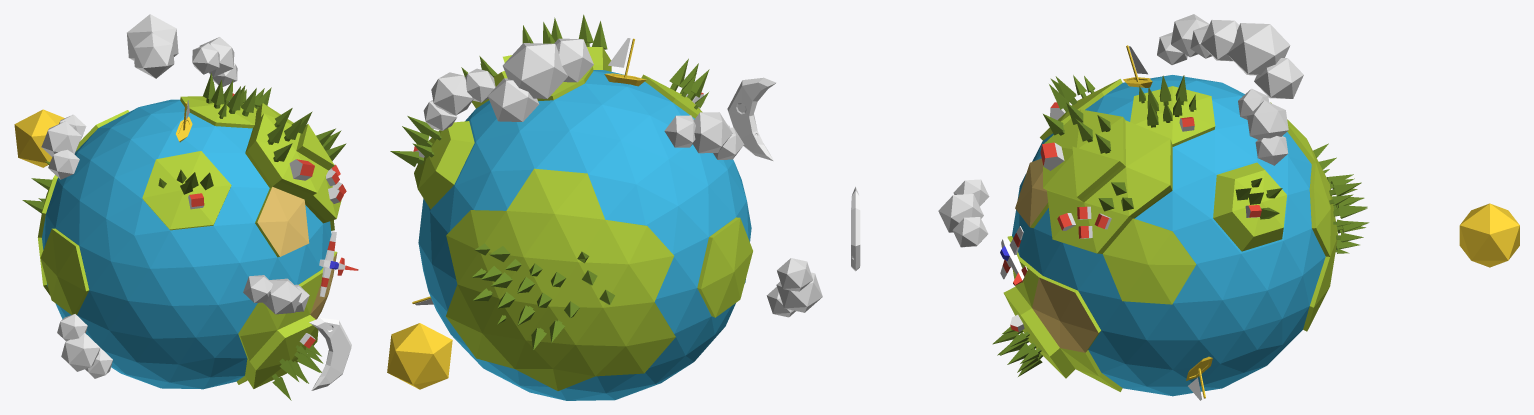
Rendered from earth2.glb.
3 views of the same model, side by side, from view 1: azimuth 30°, elevation 25°; view 2: azimuth 150°, elevation 25°; view 3: azimuth 270°, elevation 25° (orthographic). The views are drawn at different scales.
Visible parts, largest first — view 1: Icosphere.001, Icosphere, Icosphere.006, Icosphere.005, Icosphere.002, Icosphere.003, Icosphere.007, Moon.01, Icosphere.004, Plane.066, Plane.055, Plane.064; view 2: Icosphere, Icosphere.001, Icosphere.006, Icosphere.007, Icosphere.004, Icosphere.002, Icosphere.005, Moon.01, Plane.064; view 3: Icosphere.001, Icosphere, Icosphere.006, Icosphere.007, Icosphere.004, Icosphere.003, Icosphere.002, Plane.066, Moon.01.
Part boxes in pixels (<box>): Icosphere.001: <box>42,99,331,389</box>; Icosphere: <box>37,96,341,388</box>; Icosphere.006: <box>127,14,178,78</box>; Icosphere.005: <box>57,314,112,378</box>; Icosphere.002: <box>41,114,86,179</box>; Icosphere.003: <box>243,275,309,314</box>; Icosphere.007: <box>14,109,64,167</box>; Moon.01: <box>309,318,351,390</box>; Icosphere.004: <box>192,37,237,86</box>; Plane.066: <box>319,231,358,296</box>; Plane.055: <box>289,159,314,180</box>; Plane.064: <box>176,100,192,142</box>; Icosphere: <box>414,47,752,390</box>; Icosphere.001: <box>418,70,751,400</box>; Icosphere.006: <box>487,38,593,121</box>; Icosphere.007: <box>387,323,452,389</box>; Icosphere.004: <box>423,68,495,130</box>; Icosphere.002: <box>664,112,744,159</box>; Icosphere.005: <box>766,258,822,317</box>; Moon.01: <box>727,77,776,161</box>; Plane.064: <box>604,38,646,86</box>; Icosphere.001: <box>1012,75,1325,396</box>; Icosphere: <box>1003,79,1337,391</box>; Icosphere.006: <box>1201,19,1303,98</box>; Icosphere.007: <box>1459,203,1519,267</box>; Icosphere.004: <box>1238,88,1288,165</box>; Icosphere.003: <box>938,179,989,247</box>; Icosphere.002: <box>1157,14,1211,64</box>; Plane.066: <box>1000,226,1027,285</box>; Moon.01: <box>851,187,860,271</box>.
Size of the model in its own units: 2.39 by 2.51 by 4.22.
